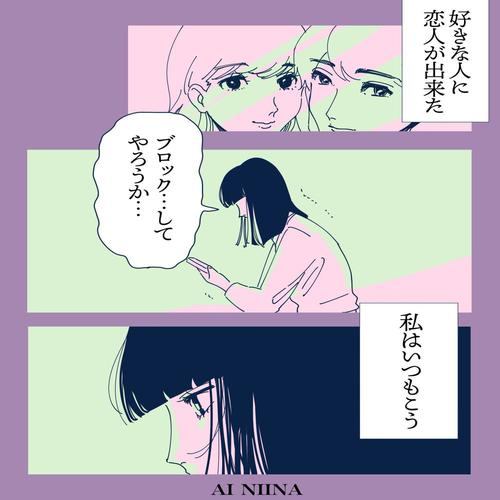bubble: (92, 112, 215, 267)
